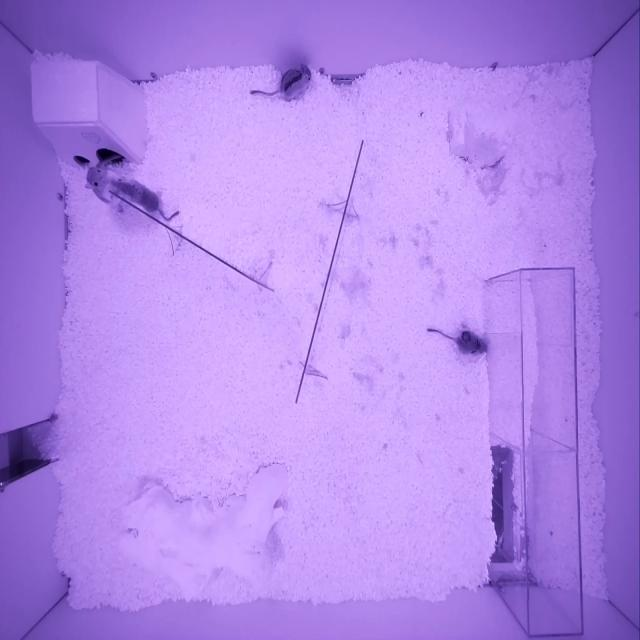adult_back: (84, 162, 125, 208)
pup_fluffy: (111, 179, 159, 212)
pup_spotted: (457, 329, 488, 354)
pup_v_stripe: (279, 63, 312, 101)
